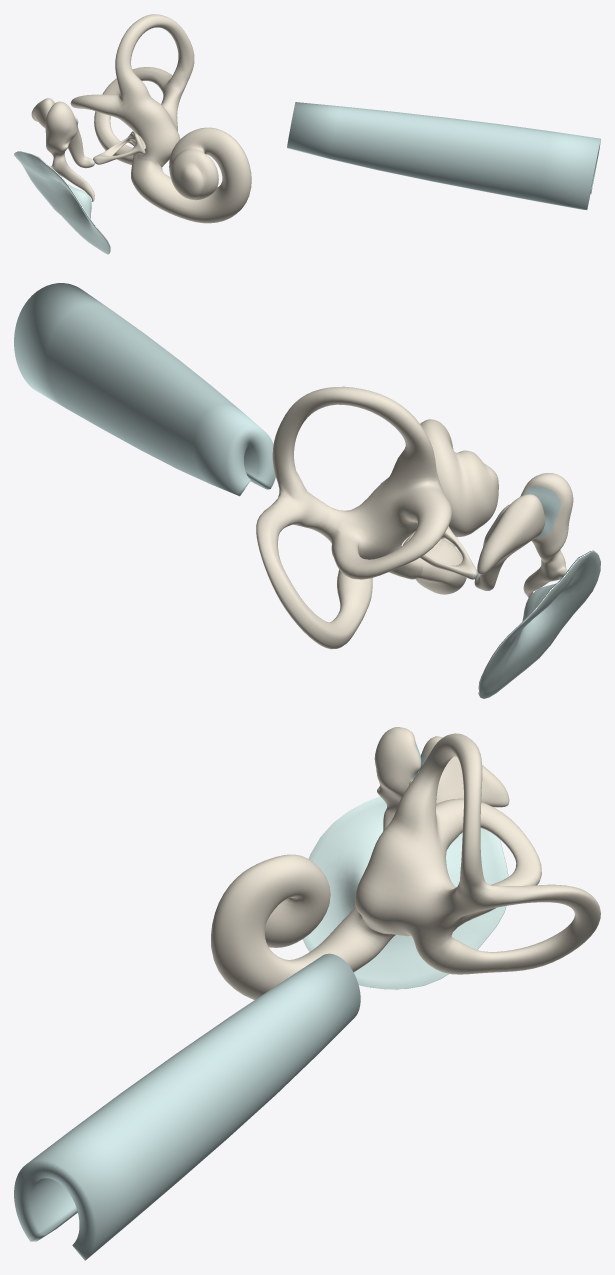
File: ear.glb
3 views of the same model, one above another, from view 1: azimuth 30°, elevation 25°; view 2: azimuth 150°, elevation 25°; view 3: azimuth 270°, elevation 25° (orthographic). The views are drawn at different scales.
Parts seen in each view (by area): view 1: Auditory tube (right), Vestibule (right), Cochlea (right), Tympanic membrane (right), Malleus (right), Incus (right), Stapes (right); view 2: Auditory tube (right), Vestibule (right), Cochlea (right), Tympanic membrane (right), Malleus (right), Incus (right), Stapes (right); view 3: Auditory tube (right), Vestibule (right), Cochlea (right), Tympanic membrane (right), Malleus (right), Incus (right).
Boxes of the visible parts, <box> form: Auditory tube (right): <box>287,102,600,209</box>; Vestibule (right): <box>70,14,194,166</box>; Cochlea (right): <box>131,127,251,223</box>; Tympanic membrane (right): <box>14,151,110,254</box>; Malleus (right): <box>45,101,94,201</box>; Incus (right): <box>31,98,94,168</box>; Stapes (right): <box>93,131,145,164</box>; Auditory tube (right): <box>14,283,275,496</box>; Vestibule (right): <box>256,386,452,649</box>; Cochlea (right): <box>415,419,498,594</box>; Tympanic membrane (right): <box>478,550,600,698</box>; Malleus (right): <box>520,473,573,597</box>; Incus (right): <box>474,494,545,590</box>; Stapes (right): <box>403,526,478,579</box>; Auditory tube (right): <box>14,953,360,1260</box>; Vestibule (right): <box>355,733,600,974</box>; Cochlea (right): <box>211,854,395,999</box>; Tympanic membrane (right): <box>302,796,508,989</box>; Malleus (right): <box>374,727,421,831</box>; Incus (right): <box>409,736,509,807</box>.
Bounding box in the file's own units: 0.0417 × 0.0165 × 0.0286.
